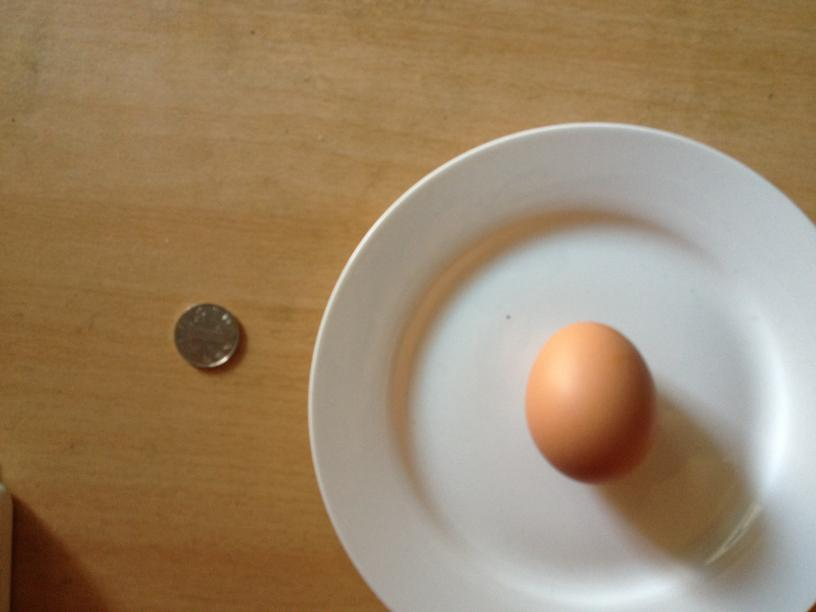coin: (173, 300, 243, 370)
egg: (523, 319, 656, 482)
